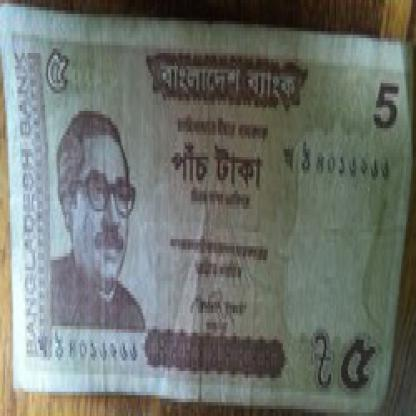Five Taka: (163, 132, 270, 204), (341, 329, 376, 406), (38, 31, 73, 104), (372, 72, 402, 138)
